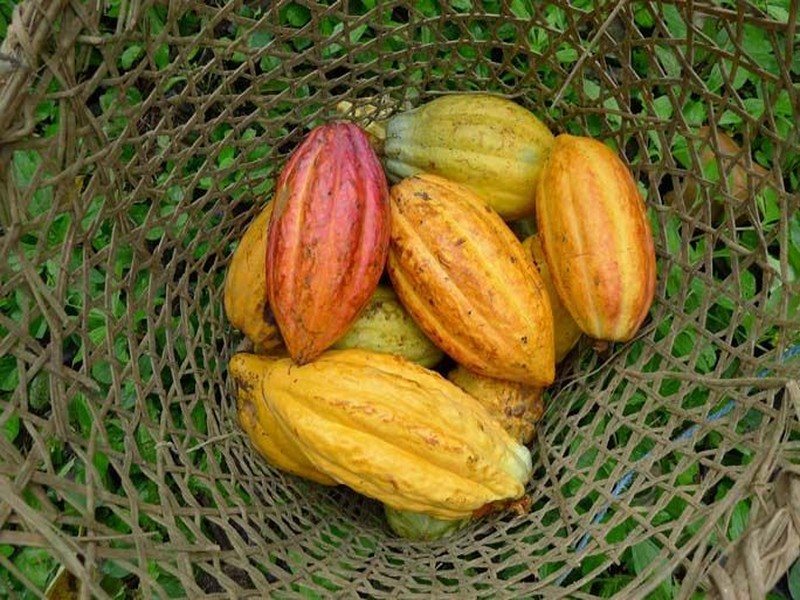Cacaopod: (263, 353, 529, 511), (269, 123, 385, 357), (535, 138, 661, 343)
